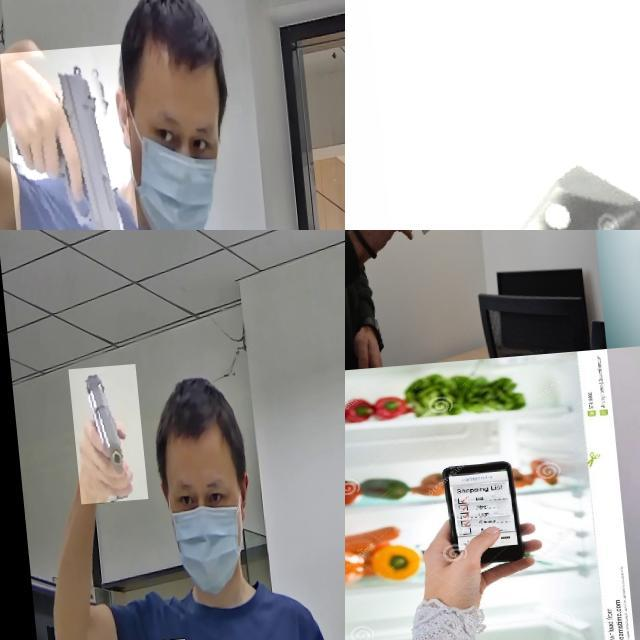-: (365, 0, 640, 230)
gun-knife-thesis - v11 Yolov5 augmented: (0, 49, 134, 230), (62, 366, 139, 505)
